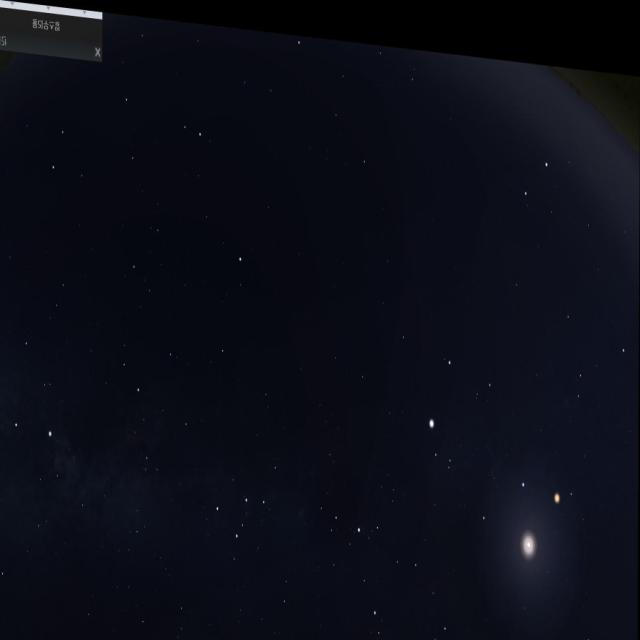cassiopeia: (205, 435, 287, 565)
moon: (502, 482, 552, 580)
